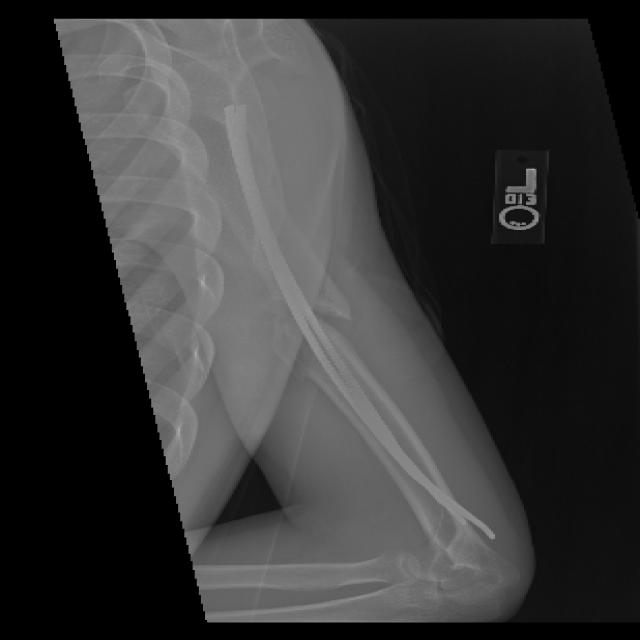humerus fracture: (273, 280, 398, 362)
